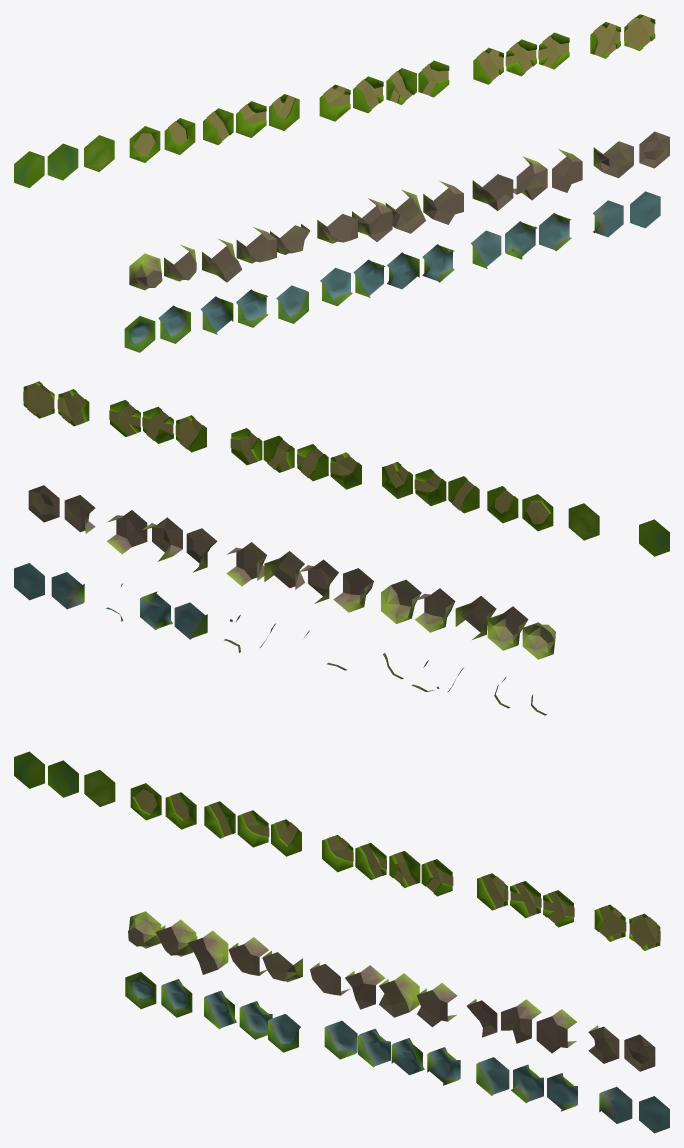
File: HexEdged.glb
The picture shows the model from 3 angles, top to bottom: view 1: azimuth 30°, elevation 25°; view 2: azimuth 150°, elevation 25°; view 3: azimuth 330°, elevation 25°; orthographic projection.
Parts seen in each view (by area): view 1: Mount_T4, Mount_F, Mount_Q1, Mount_T2, Mount_N, Mount_P2, Mount_Q2, Mount_P1, Water_P3, Mount_T3, Water_E, Water_Q3 (+33 smaller); view 2: Mount_P3, Mount_E, Mount_Q3, Mount_T4, Mount_P2, Mount_T1, Mount_N, Mount_T3, Mount_Q2, Mount_P1, Water_F, Water_Q1 (+22 smaller); view 3: Mount_T3, Mount_P1, Mount_Q3, Mount_T4, Mount_Q2, Water_T1, Water_Q1, Mount_E, Mount_T2, Mount_P2, Water_P3, Mount_N (+33 smaller).
Part boxes in pixels (x1,y1,x2,y2): Mount_T4: (423,181,463,224); Mount_F: (593,141,633,178); Mount_Q1: (472,174,513,210); Mount_T2: (352,198,392,241); Mount_N: (129,253,162,290); Mount_P2: (236,227,276,263); Mount_Q2: (513,156,547,200); Mount_P1: (202,239,242,282); Water_P3: (276,285,308,323); Mount_T3: (385,189,425,233); Water_E: (158,305,190,343); Water_Q3: (539,213,571,251); Mount_P3: (381,579,421,623); Mount_E: (487,606,528,650); Mount_Q3: (107,510,147,554); Mount_T4: (226,542,266,586); Mount_P2: (415,588,455,632); Mount_T1: (333,568,373,612); Mount_N: (522,622,555,659); Mount_T3: (264,551,304,589); Mount_Q2: (142,517,182,561); Mount_P1: (455,596,496,639); Water_F: (51,572,84,609); Water_Q1: (174,602,207,639); Mount_T3: (379,973,419,1017); Mount_P1: (187,930,228,974); Mount_Q3: (536,1009,576,1053); Mount_T4: (417,983,457,1027); Mount_Q2: (501,999,541,1043); Water_T1: (324,1020,357,1059); Water_Q1: (476,1057,509,1095); Mount_E: (155,919,196,956); Mount_T2: (345,965,385,1009); Mount_P2: (228,937,268,975); Water_P3: (268,1014,300,1052); Mount_N: (128,911,161,948).
Bounding box in the file's own units: 36.5 × 12.46 × 1.58.
